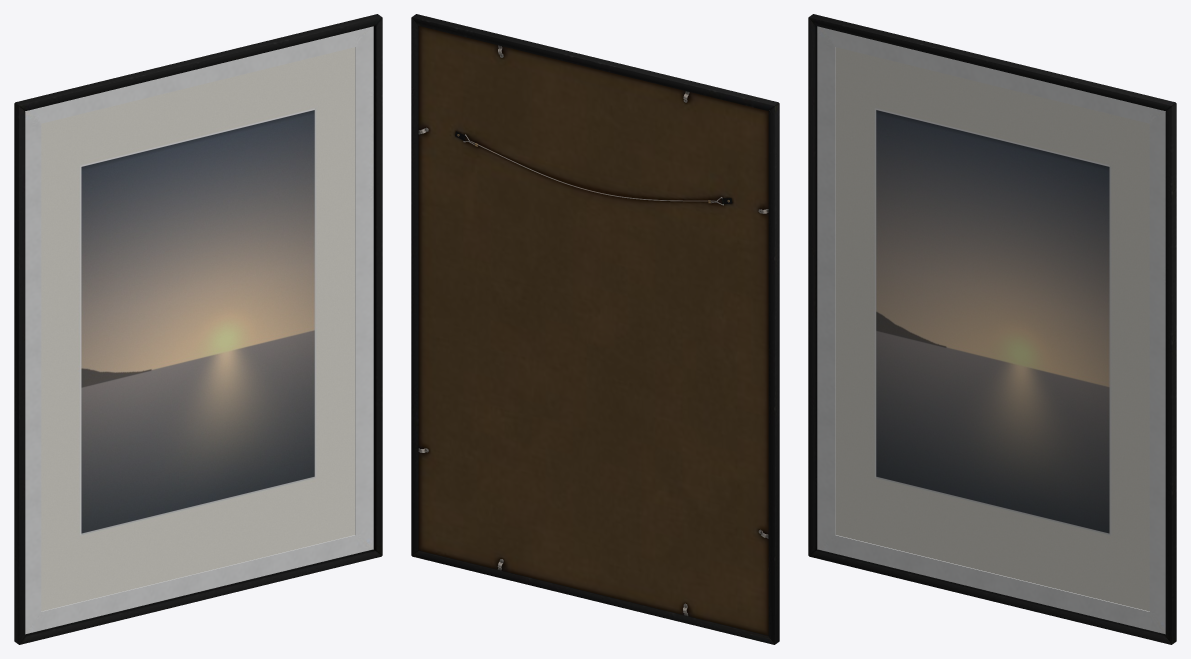
File: PictureFrameBlack.obj
The picture shows the model from 3 angles, left to right: view 1: azimuth 30°, elevation 25°; view 2: azimuth 150°, elevation 25°; view 3: azimuth 330°, elevation 25°; orthographic projection.
Visible parts, largest first — view 1: Artwork, Frame; view 2: Frame; view 3: Artwork, Frame.
Part boxes in pixels (bbox=[...]): Artwork: bbox=[41, 47, 355, 611]; Frame: bbox=[14, 14, 382, 644]; Frame: bbox=[411, 14, 779, 644]; Artwork: bbox=[835, 47, 1149, 611]; Frame: bbox=[808, 14, 1176, 644].
Bounding box in the file's own units: 0.594 × 0.841 × 0.0157.
Materials: 3 (2 with a texture image).
